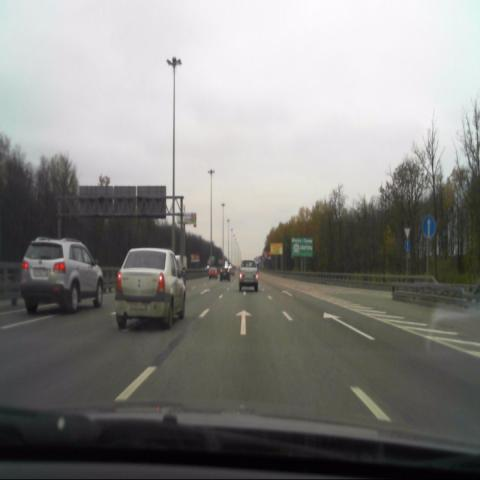2_4: (404, 226, 412, 238)
4_1_1: (422, 215, 436, 239), (404, 240, 411, 251)
